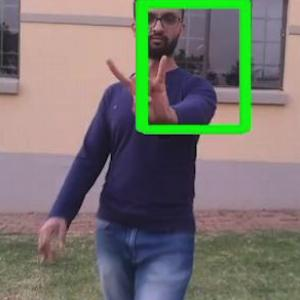takeoff-hand: (97, 46, 178, 140)
